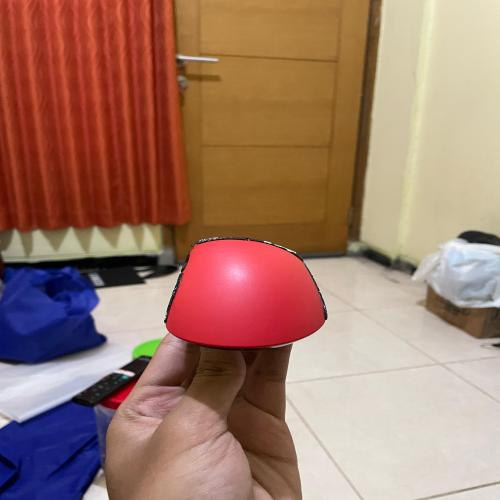mouse: (159, 229, 349, 358)
